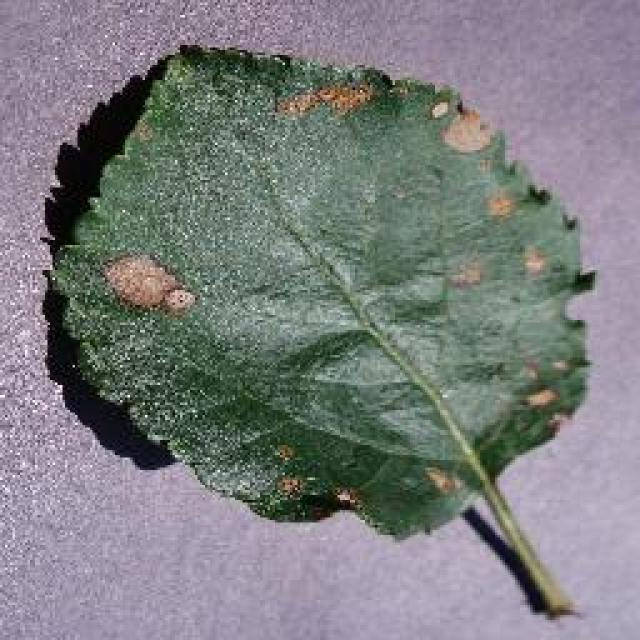Black_rot: (43, 40, 595, 618)
